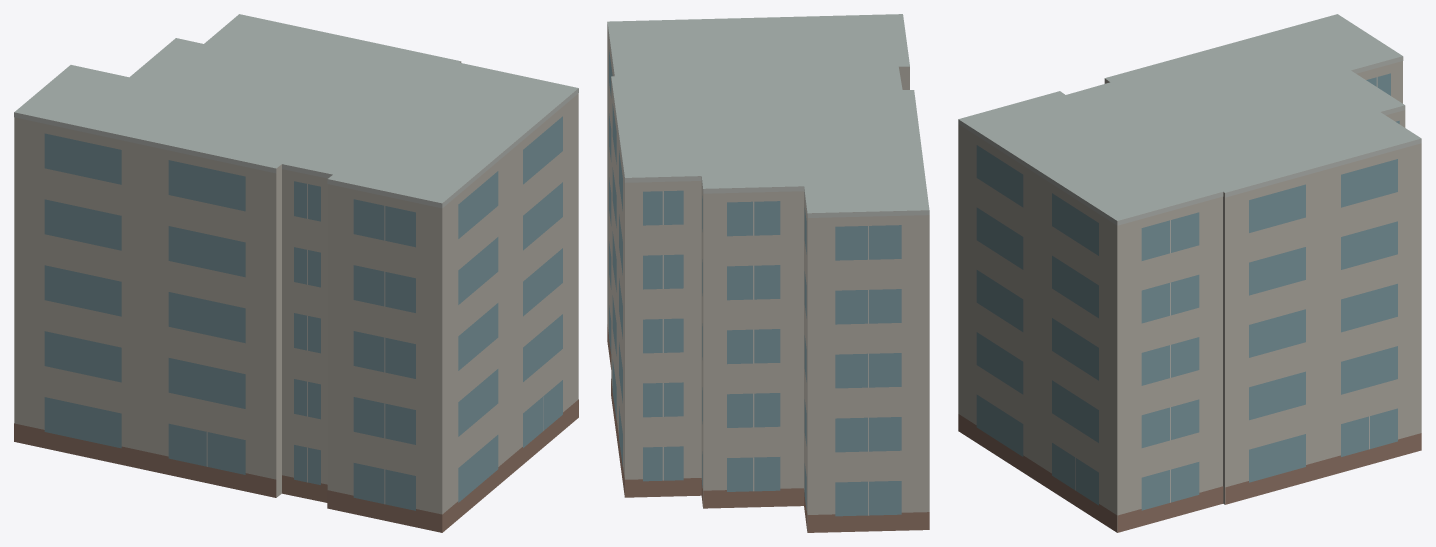
File: survey-upis-32676811.glb
3 views of the same model, side by side, from view 1: azimuth 30°, elevation 25°; view 2: azimuth 150°, elevation 25°; view 3: azimuth 270°, elevation 25° (orthographic). The views are drawn at different scales.
Parts seen in each view (by area): view 1: survey-upis-32676811.tmp; view 2: survey-upis-32676811.tmp; view 3: survey-upis-32676811.tmp.
Boxes of the visible parts, x1=… form: survey-upis-32676811.tmp: x1=14, y1=14, x2=578, y2=532; survey-upis-32676811.tmp: x1=607, y1=14, x2=929, y2=532; survey-upis-32676811.tmp: x1=958, y1=14, x2=1421, y2=532.
Bounding box in the file's own units: 22.86 × 16.05 × 21.63.
